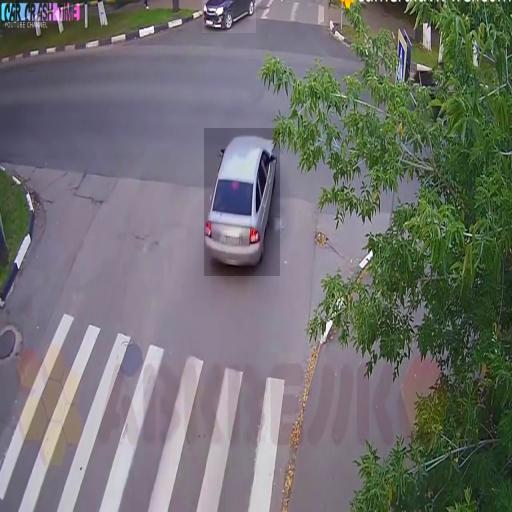小汽车: (204, 128, 280, 276), (202, 0, 256, 33)
